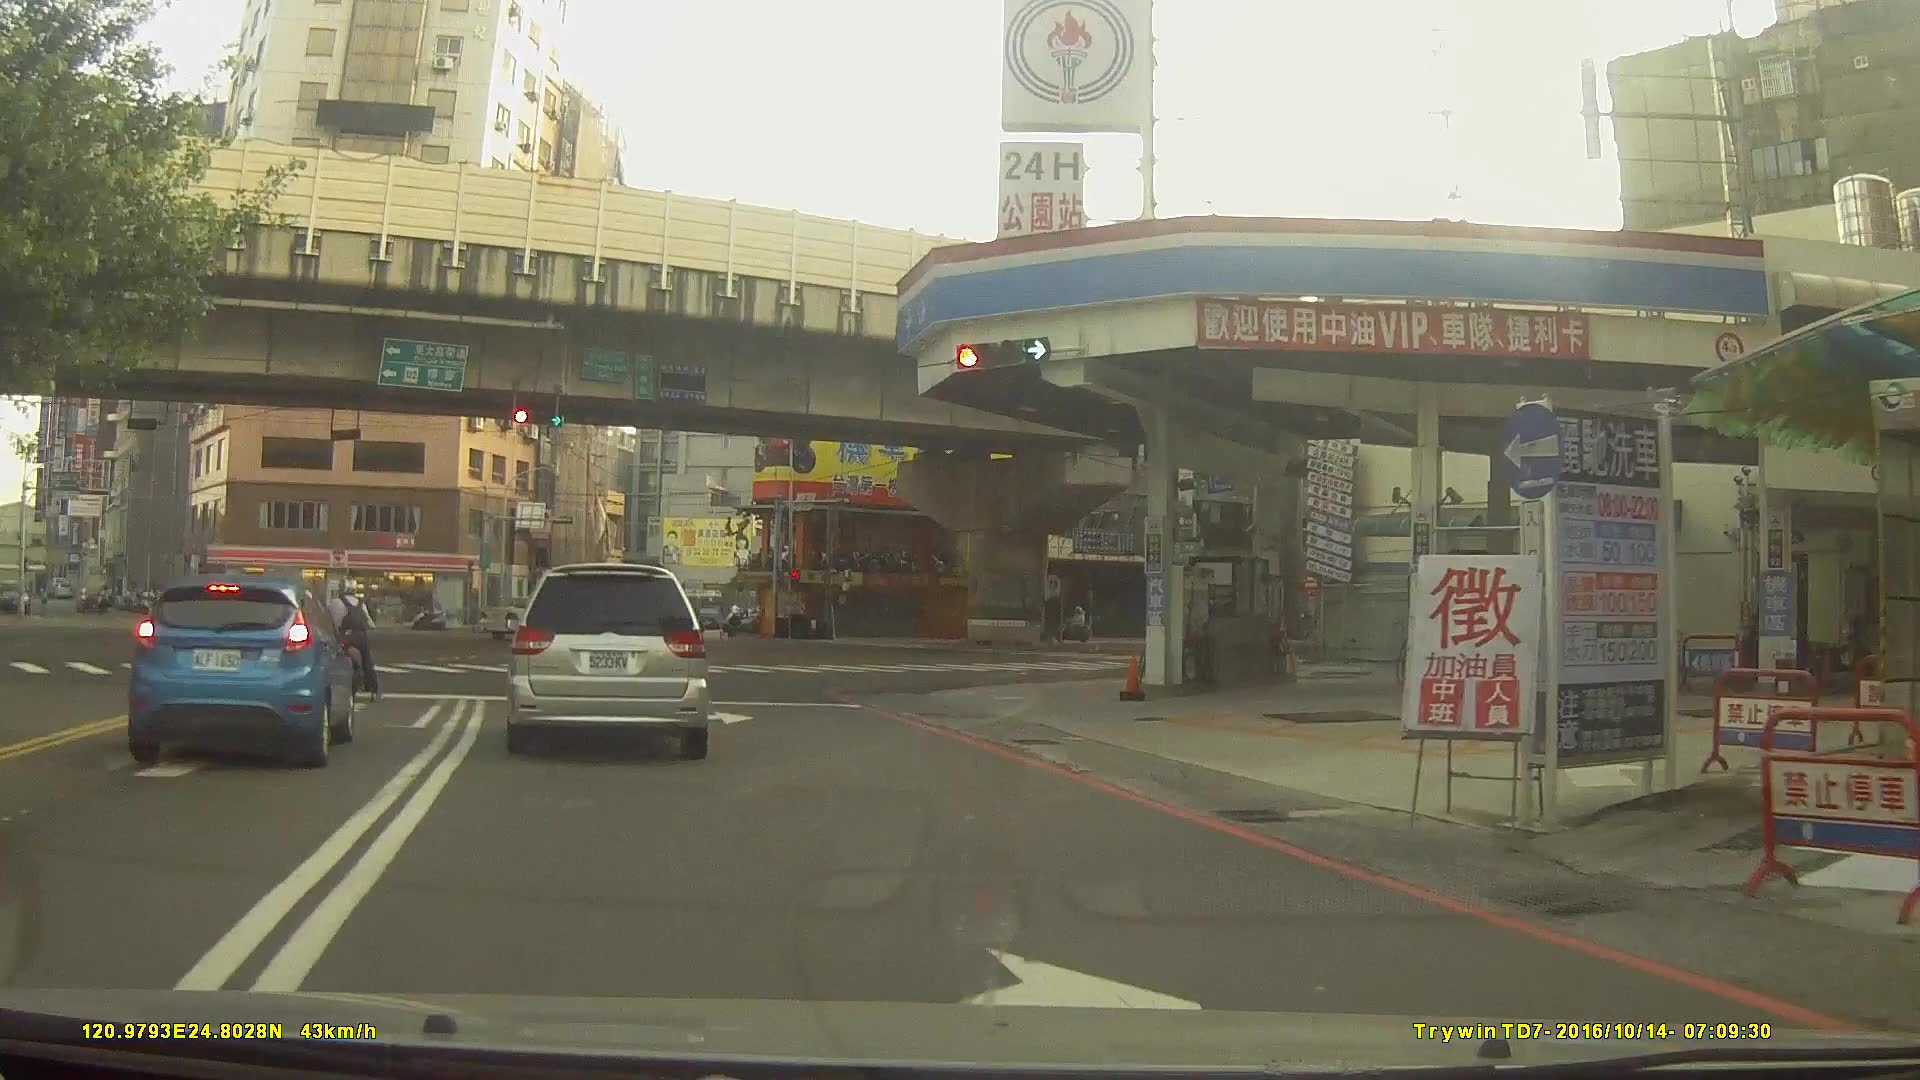rider: (325, 578, 385, 714)
vehicle: (122, 572, 356, 769), (503, 561, 710, 760), (175, 585, 308, 637), (477, 595, 580, 638)
